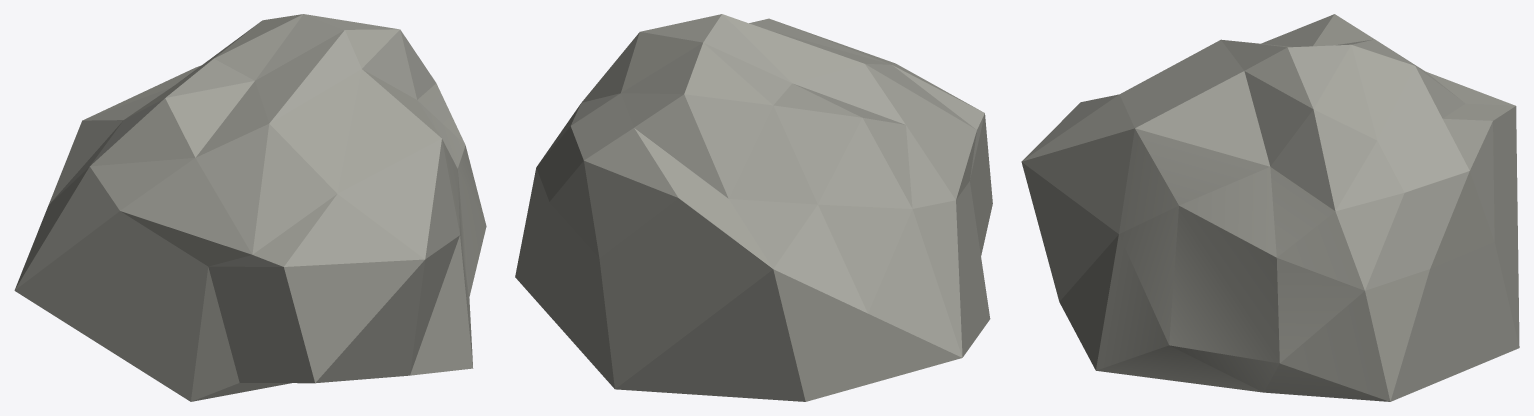
File: Rock3.fbx
3 renders of one model, left to right at view 1: azimuth 30°, elevation 25°; view 2: azimuth 150°, elevation 25°; view 3: azimuth 270°, elevation 25°, orthographic. The views are drawn at different scales.
Parts seen in each view (by area): view 1: Rock3; view 2: Rock3; view 3: Rock3.
Part boxes in pixels (x1,y1,x2,y2): Rock3: (14, 14, 486, 401); Rock3: (515, 14, 992, 401); Rock3: (1021, 14, 1519, 401).
Size of the model in its own units: 91.76 by 57.24 by 85.13.
